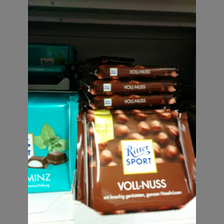chocolate: (77, 111, 196, 212), (28, 95, 78, 194)
